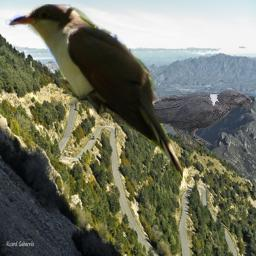Crow: (123, 88, 253, 148)
Cuckoo: (5, 4, 183, 181)
